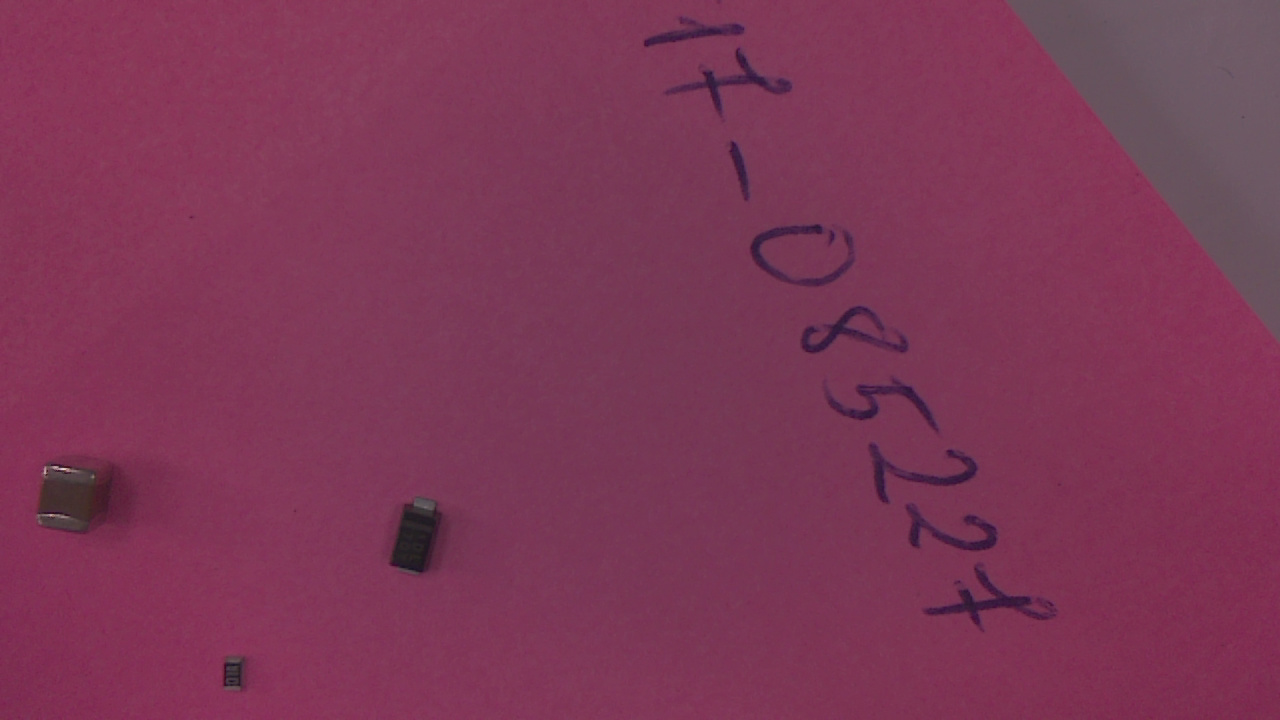Condensator: (34, 457, 124, 539)
Diode: (392, 501, 450, 576)
Resistor: (224, 659, 254, 697)
